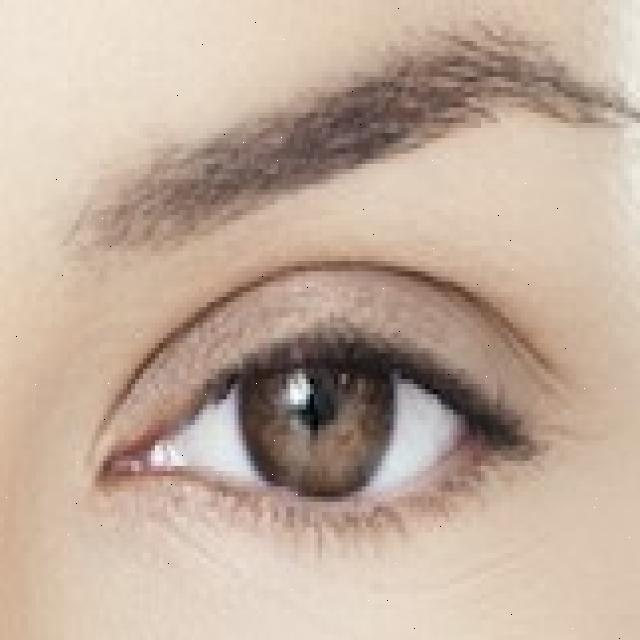Normal: (234, 296, 398, 507)
